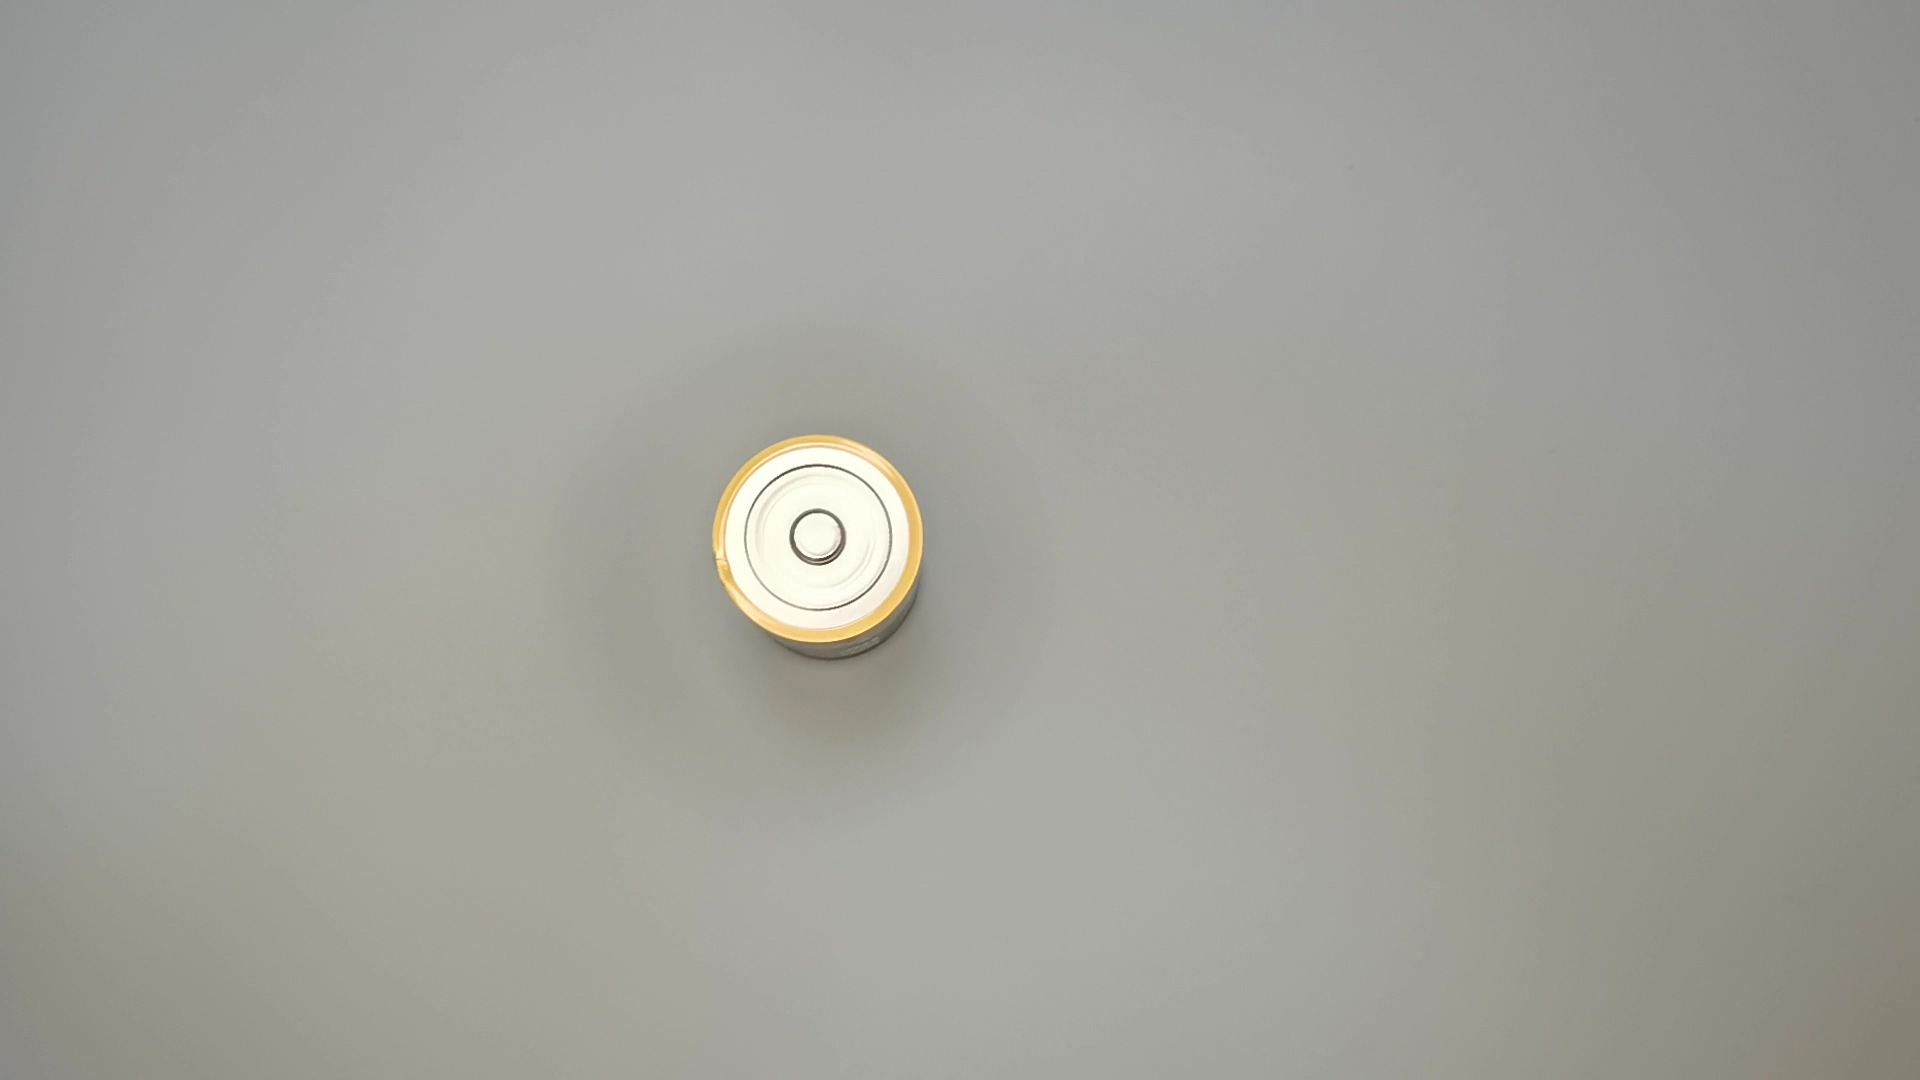battery: (700, 431, 934, 671)
